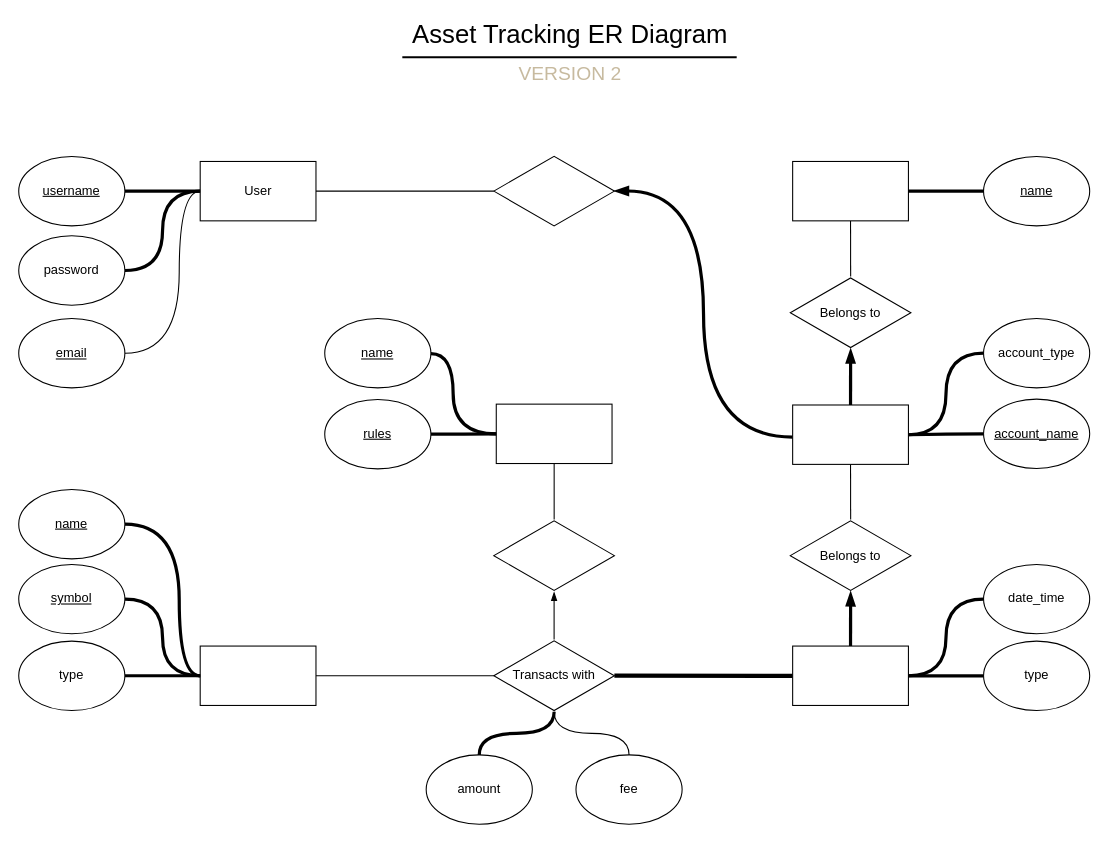
Image size: 1109x843. Some labels were removed from this diagram. The centre of each missing label's shape, as x and y in pixels:
"Account" goes at (x=850, y=434).
"Asset" goes at (x=257, y=675).
"Exchange" goes at (x=850, y=190).
"Has an" goes at (x=553, y=190).
"Strategy" goes at (x=553, y=433).
"Transaction" goes at (x=850, y=675).
"Uses A" goes at (x=553, y=555).
